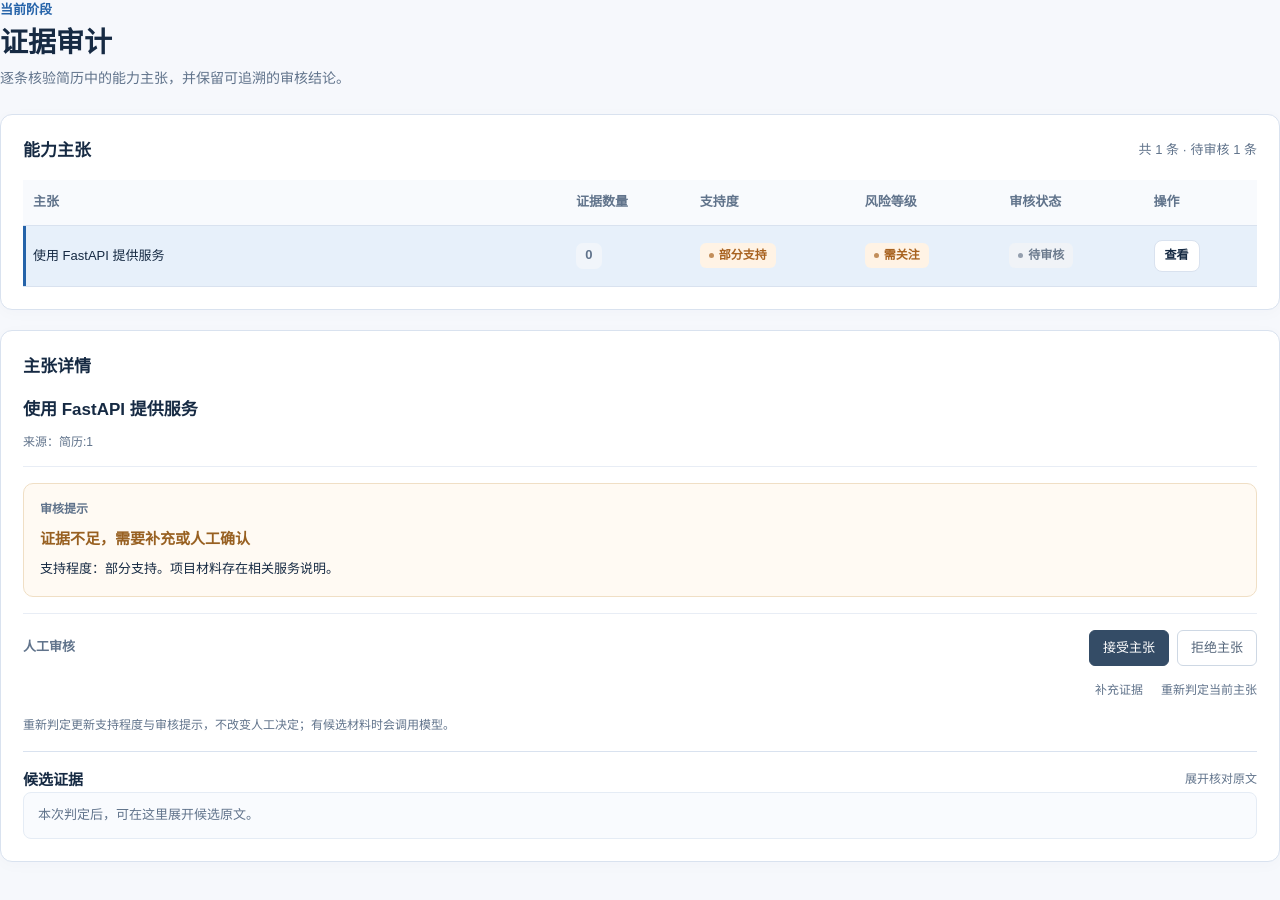
Test case: 拒绝主张需要确认，提交失败后保留可理解提示
The width and height of the screenshot is (1280, 900).
Click the button "拒绝主张": (1217, 648) x1=1177 y1=630 x2=1257 y2=666
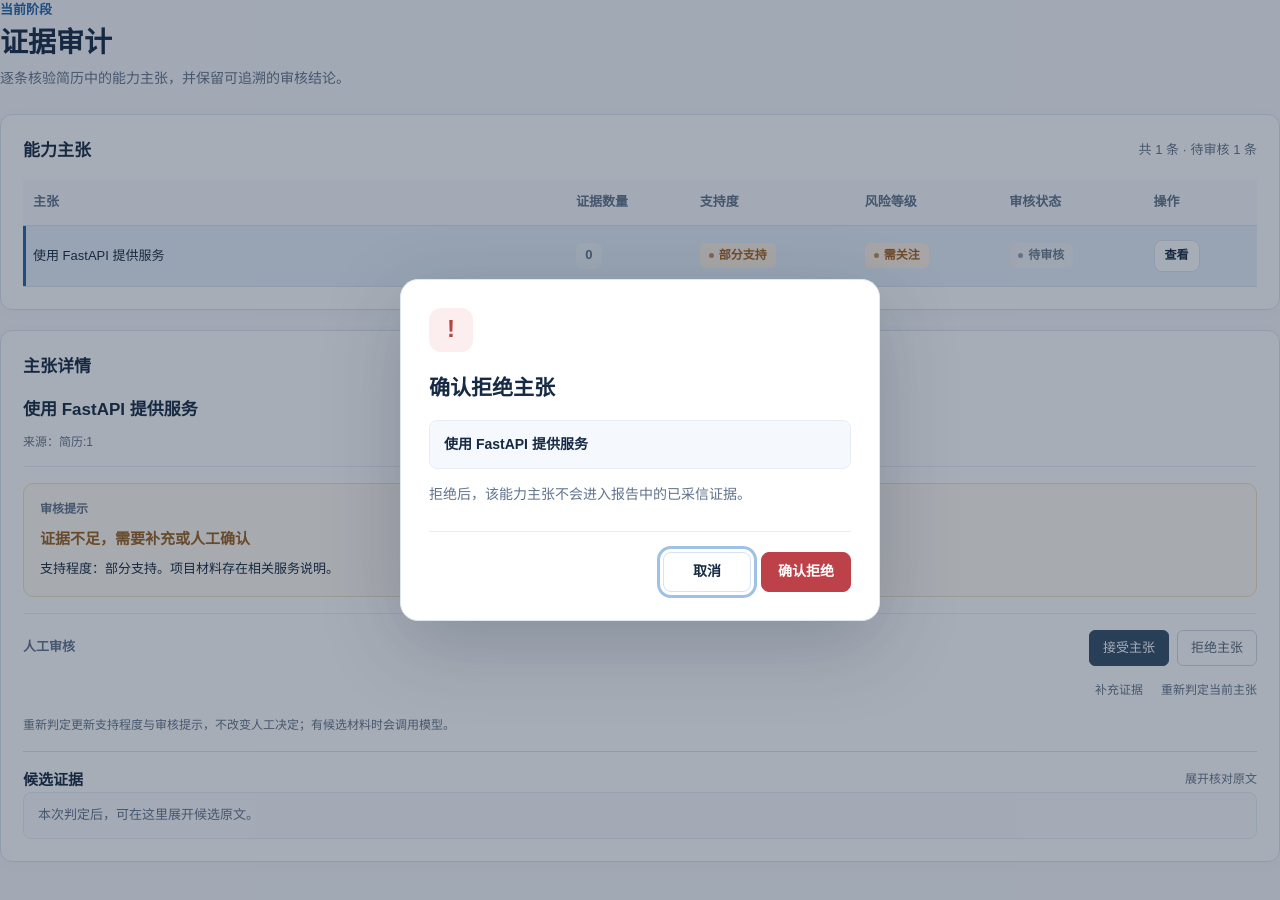
Expected: the dialog "确认拒绝主张" is shown, x1=400 y1=279 x2=880 y2=621
Click the button "确认拒绝": (806, 572) x1=761 y1=552 x2=851 y2=592
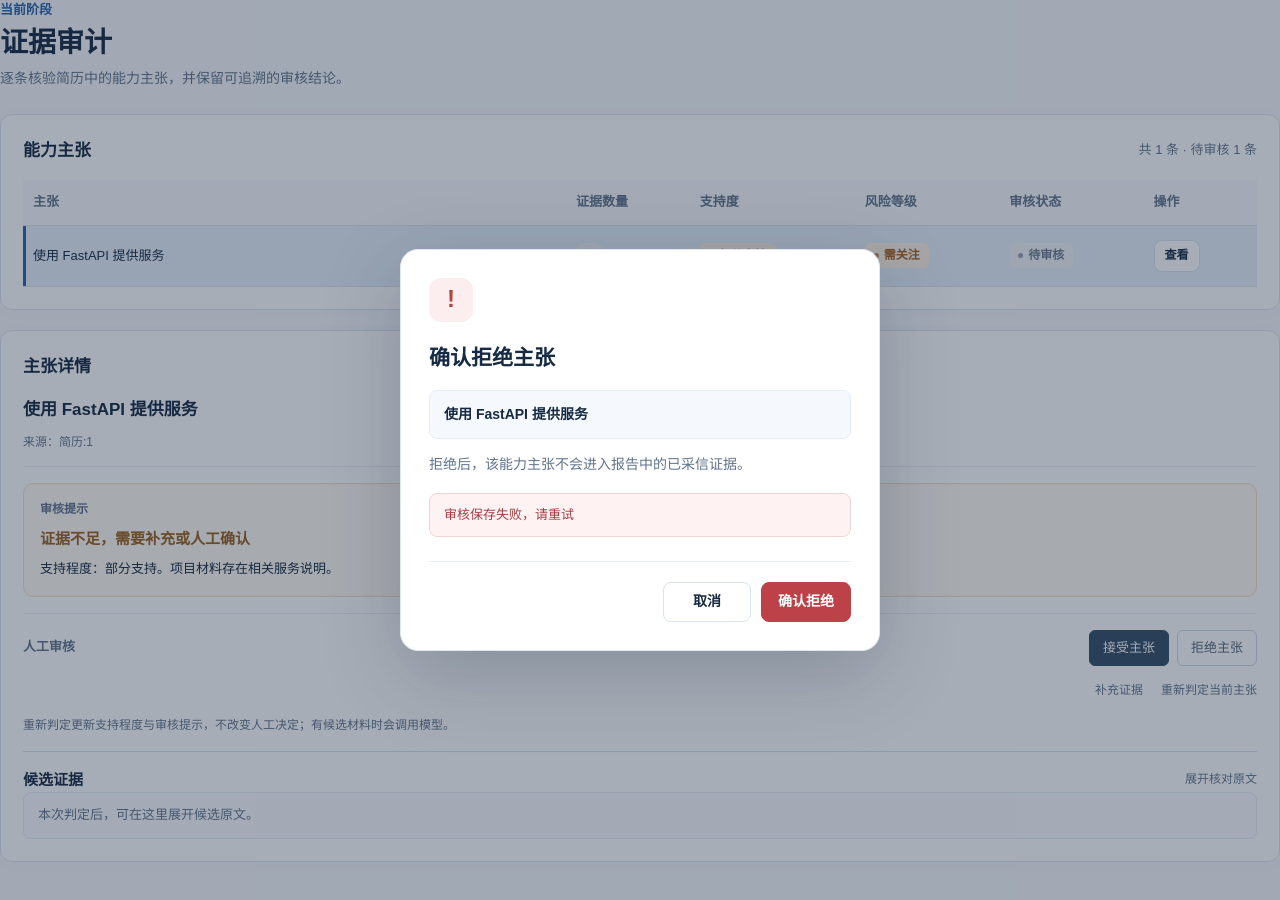
Expected: the message reads "审核保存失败，请重试", x1=444 y1=507 x2=574 y2=522
